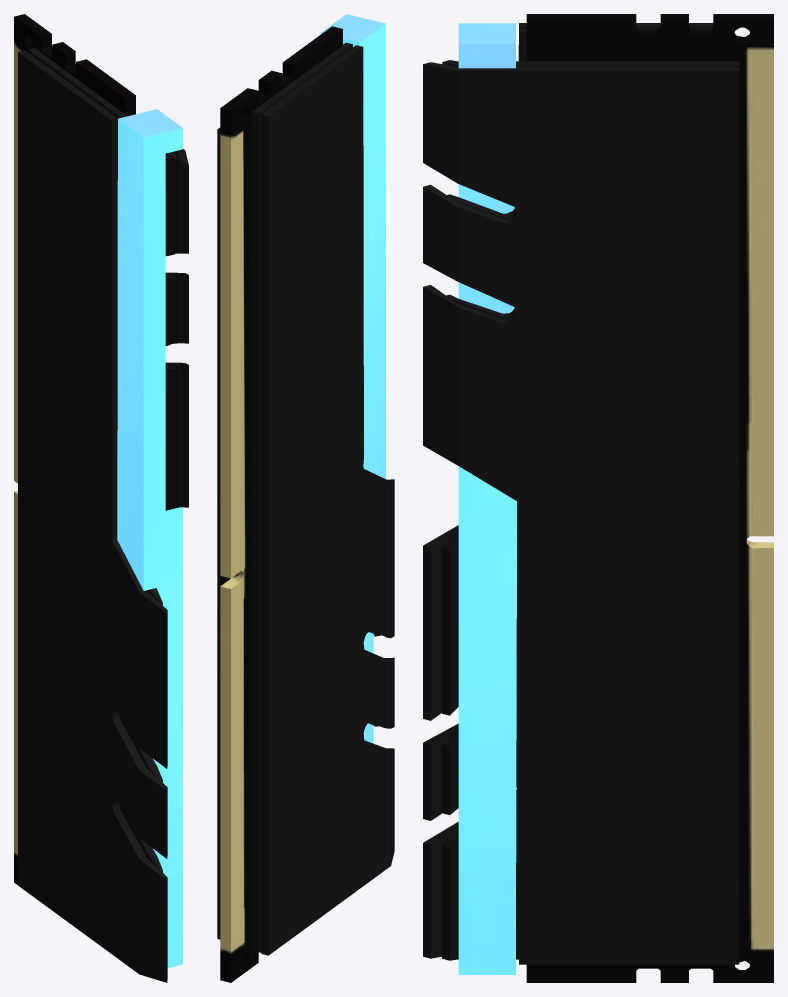
Rendered from ram-modul.glb.
3 views of the same model, side by side, from view 1: azimuth 30°, elevation 25°; view 2: azimuth 150°, elevation 25°; view 3: azimuth 270°, elevation 25° (orthographic). The views are drawn at different scales.
Visible parts, largest first — view 1: pCube920_Ram2M_0, pCube911_RGBM_0, pCube910_Ram4M_0, pCube902_Ram3M_0; view 2: pCube920_Ram2M_0, pCube902_Ram3M_0, pCube911_RGBM_0, pCube910_Ram4M_0; view 3: pCube910_Ram4M_0, pCube902_Ram3M_0, pCube911_RGBM_0, pCube920_Ram2M_0.
Part boxes in pixels (x1,y1,x2,y2): pCube920_Ram2M_0: [18, 48, 167, 982]; pCube911_RGBM_0: [117, 109, 182, 967]; pCube910_Ram4M_0: [165, 149, 188, 510]; pCube902_Ram3M_0: [14, 14, 135, 884]; pCube920_Ram2M_0: [251, 42, 394, 955]; pCube902_Ram3M_0: [220, 26, 342, 982]; pCube911_RGBM_0: [320, 14, 385, 743]; pCube910_Ram4M_0: [217, 127, 230, 939]; pCube910_Ram4M_0: [423, 60, 739, 964]; pCube902_Ram3M_0: [526, 14, 773, 982]; pCube911_RGBM_0: [458, 23, 516, 974]; pCube920_Ram2M_0: [423, 23, 713, 960].
Bounding box in the file's own units: 0.7444 × 13.45 × 4.44.
Materials: 4 (2 with a texture image).
